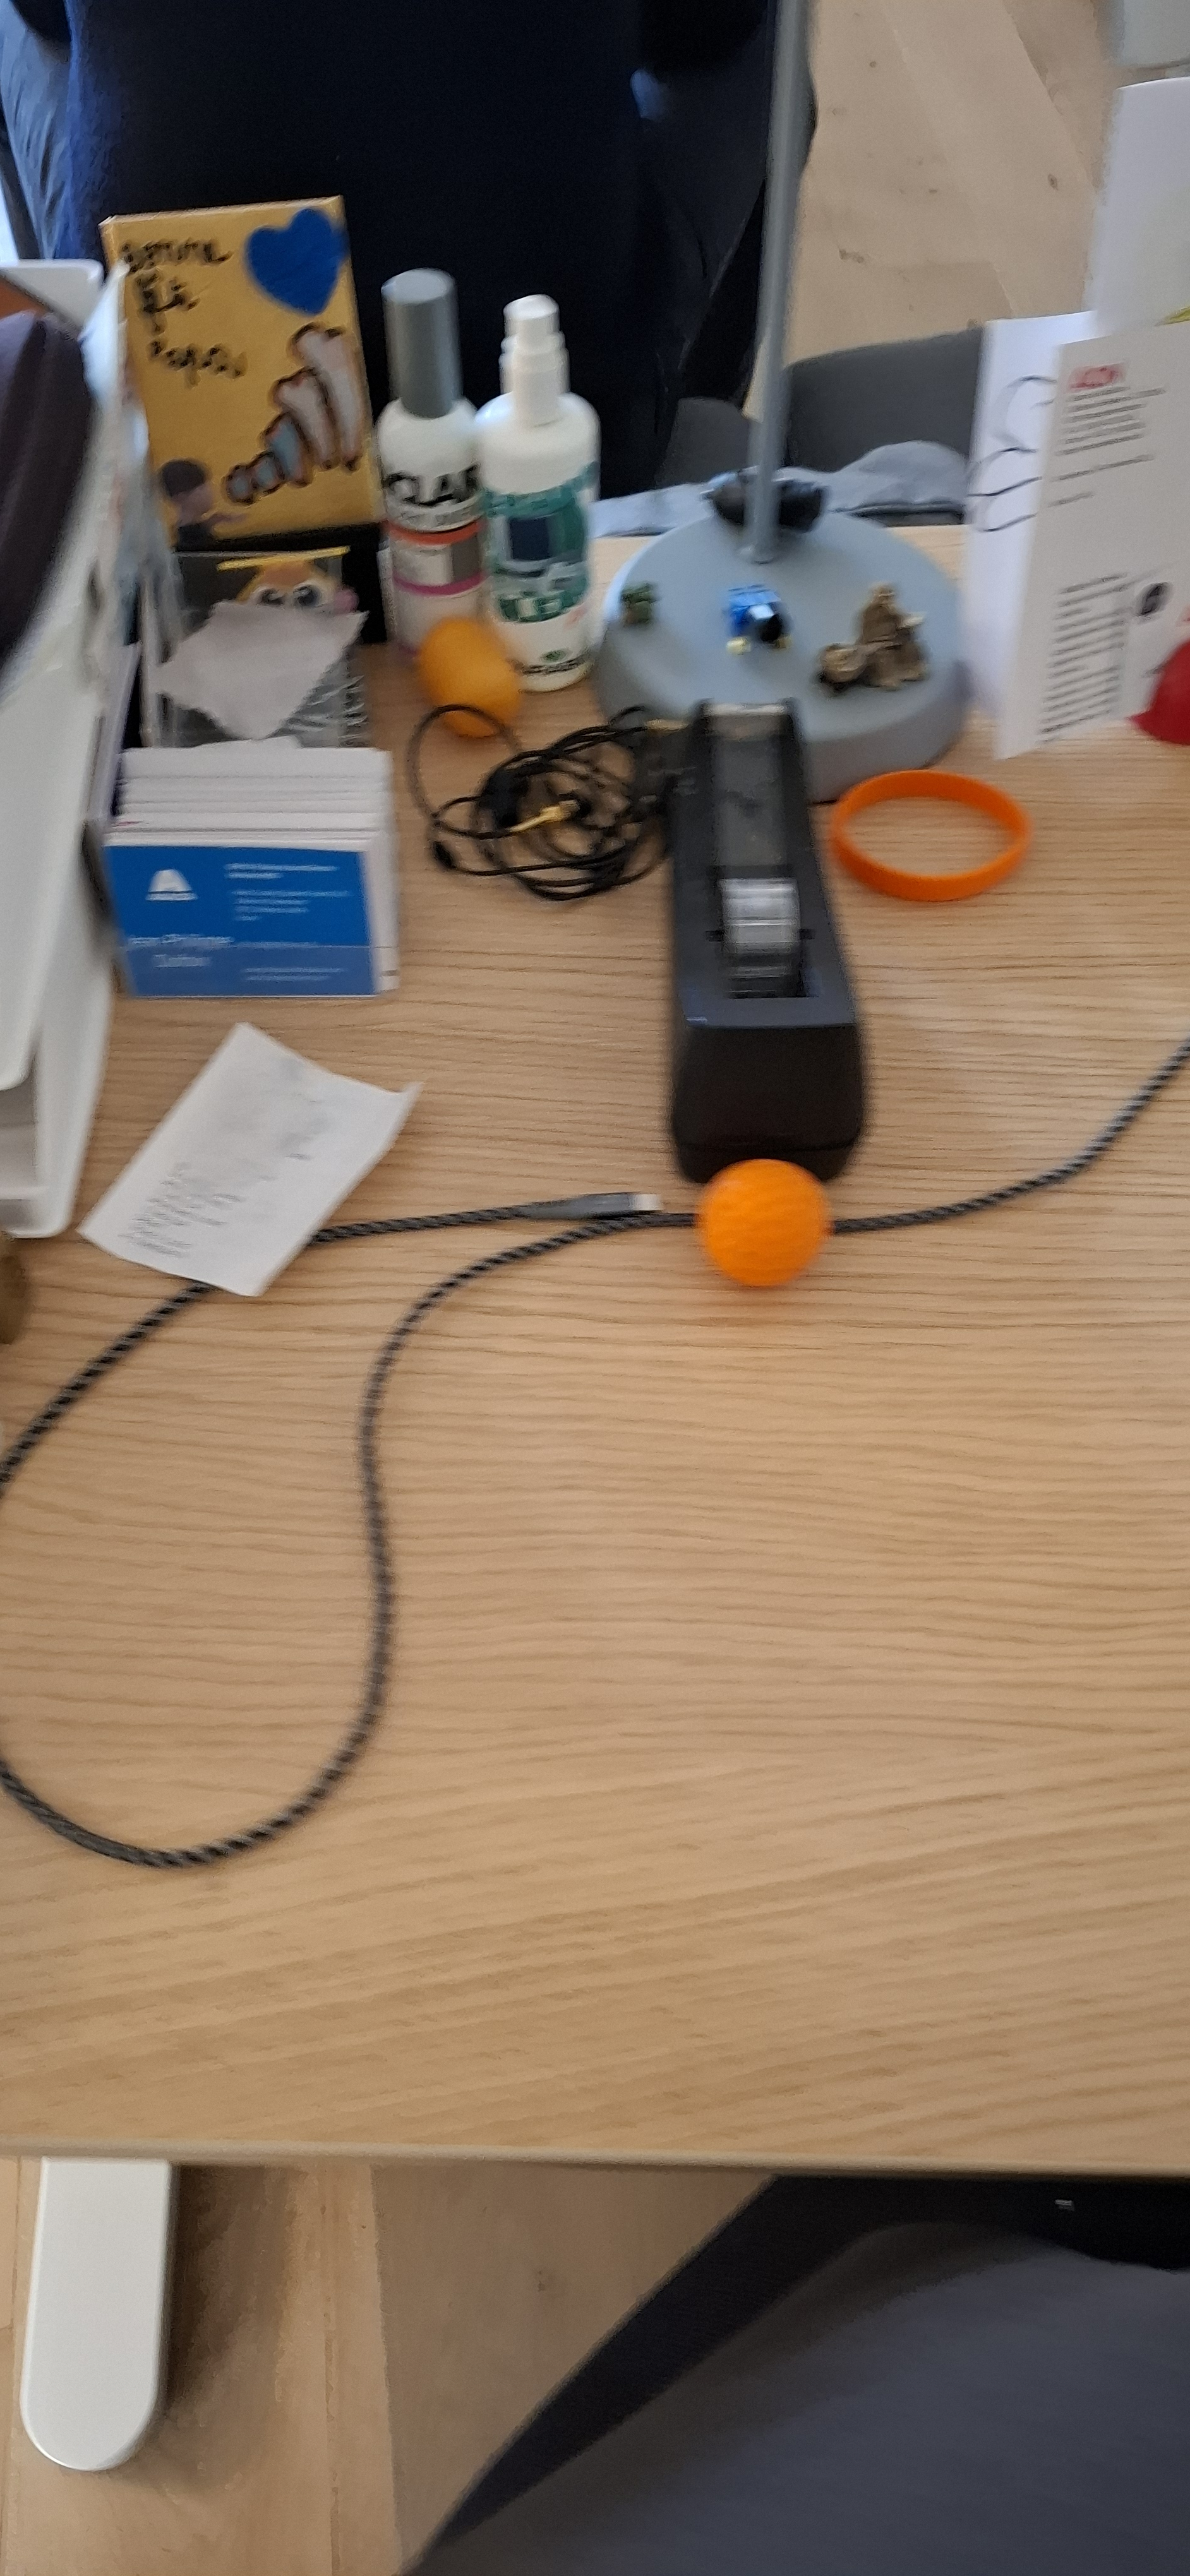ball: (534, 785, 593, 1056)
